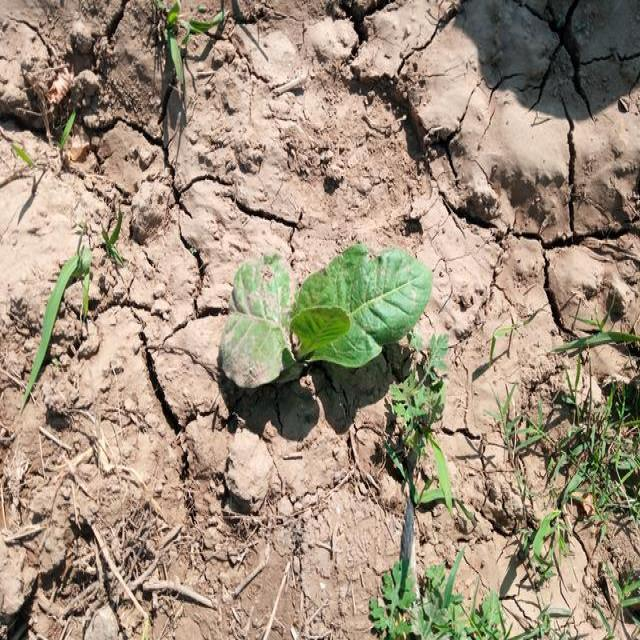crop: (214, 252, 431, 381)
